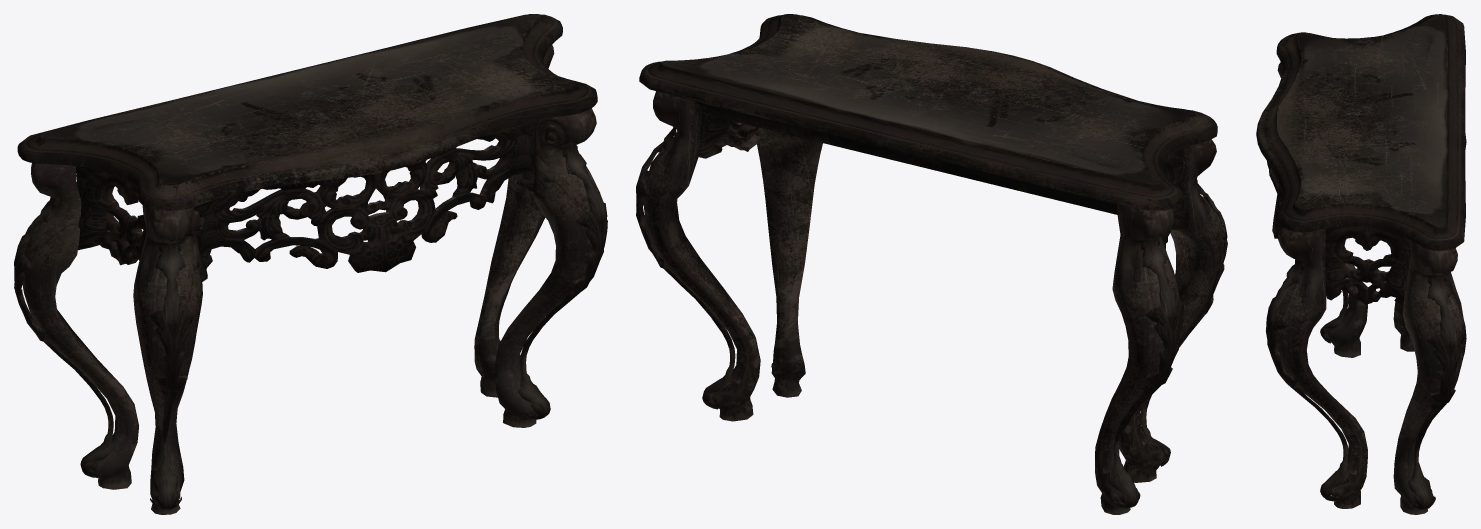
Rendered from ClassicConsole_01_1k.glb.
3 views of the same model, side by side, from view 1: azimuth 30°, elevation 25°; view 2: azimuth 150°, elevation 25°; view 3: azimuth 270°, elevation 25° (orthographic). The views are drawn at different scales.
Parts seen in each view (by area): view 1: ClassicConsole_01; view 2: ClassicConsole_01; view 3: ClassicConsole_01.
Part boxes in pixels (x1=…): ClassicConsole_01: x1=14, y1=14, x2=607, y2=514; ClassicConsole_01: x1=636, y1=14, x2=1227, y2=514; ClassicConsole_01: x1=1256, y1=14, x2=1466, y2=514.
Bounding box in the file's own units: 1.54 × 0.9491 × 0.5893.
Materials: 1 (1 with a texture image).
